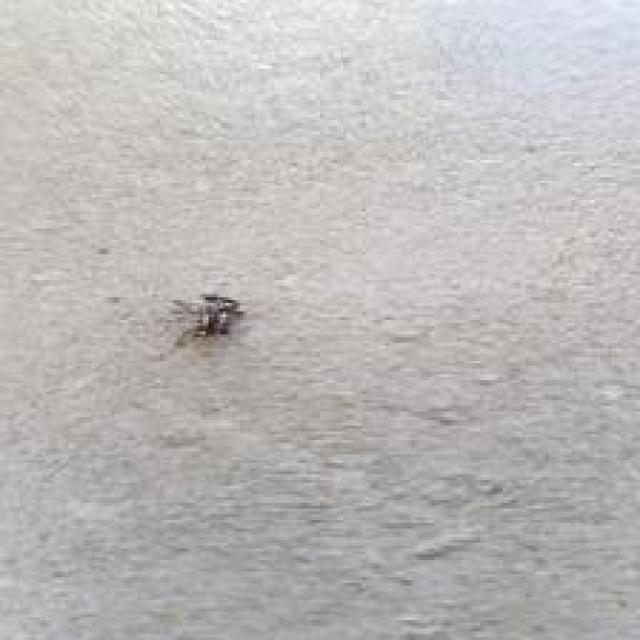Aedes albopictus: (171, 292, 246, 348)
